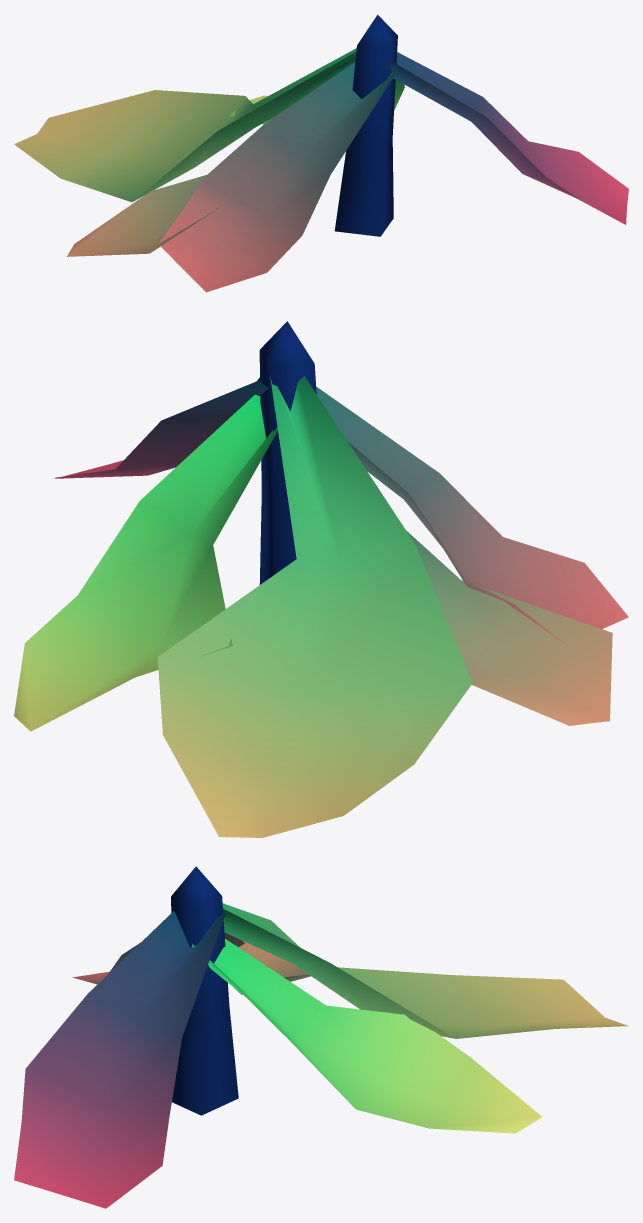
The model's file is sfcnq_VarE_LOD0.fbx.
The picture shows the model from 3 angles, top to bottom: view 1: azimuth 30°, elevation 25°; view 2: azimuth 150°, elevation 25°; view 3: azimuth 270°, elevation 25°; orthographic projection. The views are drawn at different scales.
Visible parts, largest first — view 1: _1911_VarE_LOD1; view 2: _1911_VarE_LOD1; view 3: _1911_VarE_LOD1.
Part boxes in pixels (box(x1,y1,x2,y2)): _1911_VarE_LOD1: box(14, 14, 628, 292); _1911_VarE_LOD1: box(14, 321, 628, 837); _1911_VarE_LOD1: box(14, 866, 628, 1208).
Bounding box in the file's own units: 20.48 × 8.5 × 19.66.
